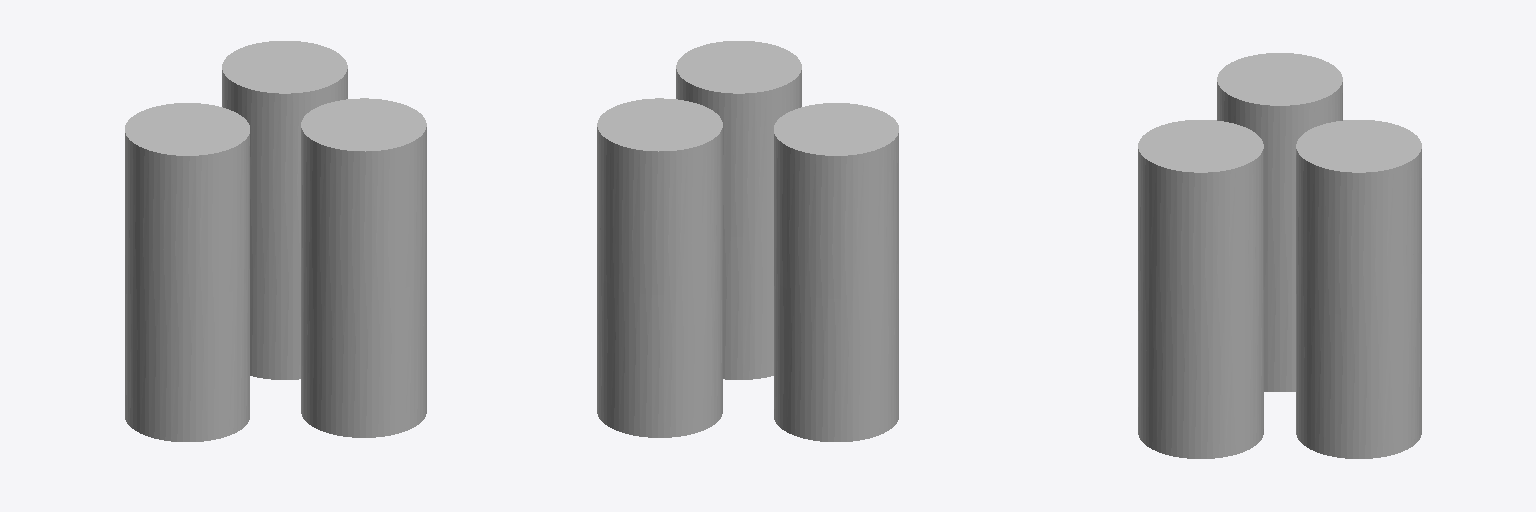
The model's file is triple_cylinder.obj.
3 views of the same model, side by side, from view 1: azimuth 30°, elevation 25°; view 2: azimuth 150°, elevation 25°; view 3: azimuth 270°, elevation 25° (orthographic).
Visible parts, largest first — view 1: Cylinder.002, Cylinder.001, Cylinder; view 2: Cylinder, Cylinder.001, Cylinder.002; view 3: Cylinder, Cylinder.002, Cylinder.001.
Boxes of the visible parts, x1,y1,x2,y2 form: Cylinder.002: [301, 98, 426, 437]; Cylinder.001: [125, 103, 249, 441]; Cylinder: [222, 41, 347, 379]; Cylinder: [597, 98, 722, 437]; Cylinder.001: [774, 103, 898, 441]; Cylinder.002: [676, 41, 801, 379]; Cylinder: [1296, 120, 1421, 458]; Cylinder.002: [1138, 120, 1263, 458]; Cylinder.001: [1217, 53, 1342, 391].
Bounding box in the file's own units: 1.8 × 2 × 1.8.